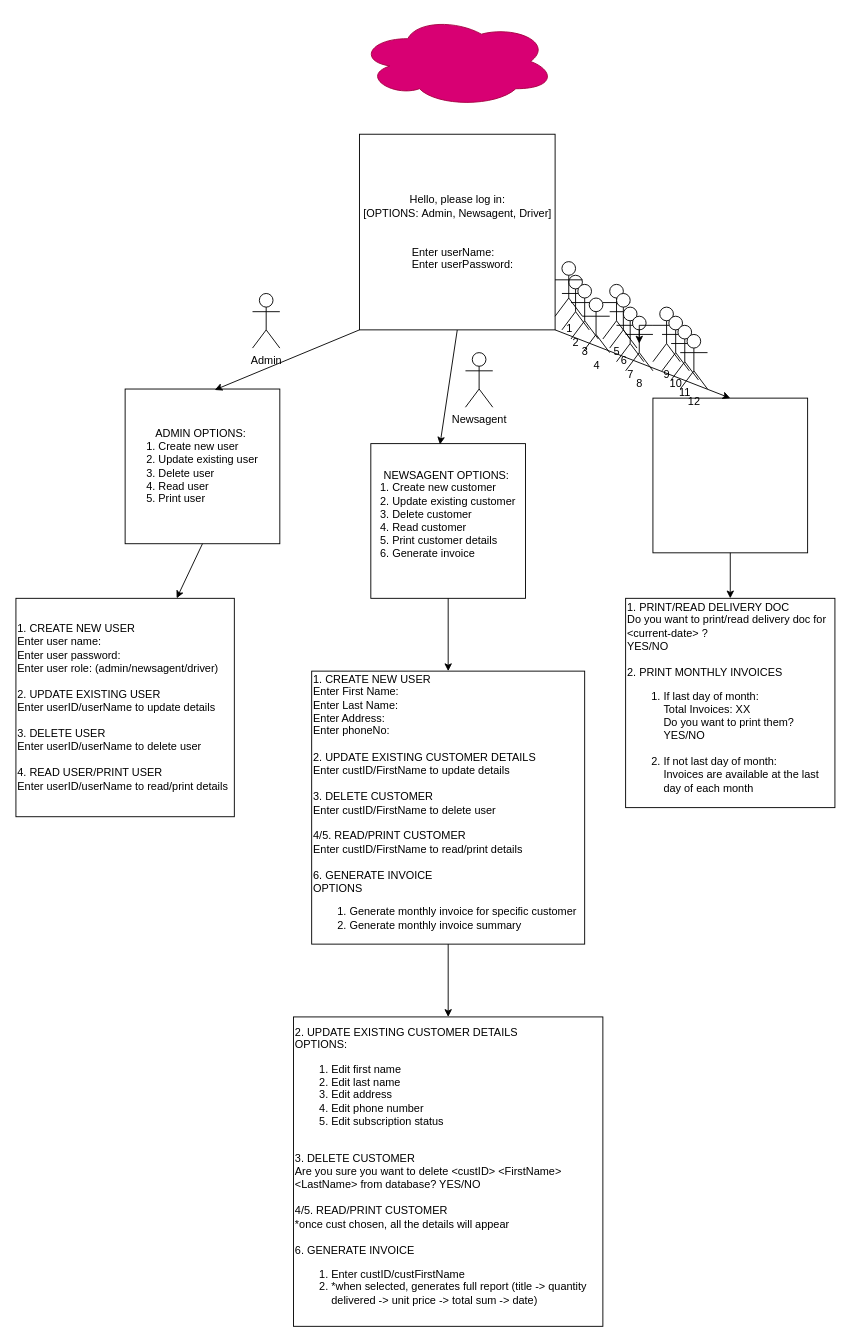
Image size: 851x1342. Some labels were removed from this diagram. The shapes that lost their labels are listed below. From the top down, each one's centre as x and y in pixels, then its label:
At point 456,61: "GUI ARCHITECTURE".
At point 730,475: "DRIVER OPTIONS: 1. Read/Print delivery doc 2. Print invoices".
